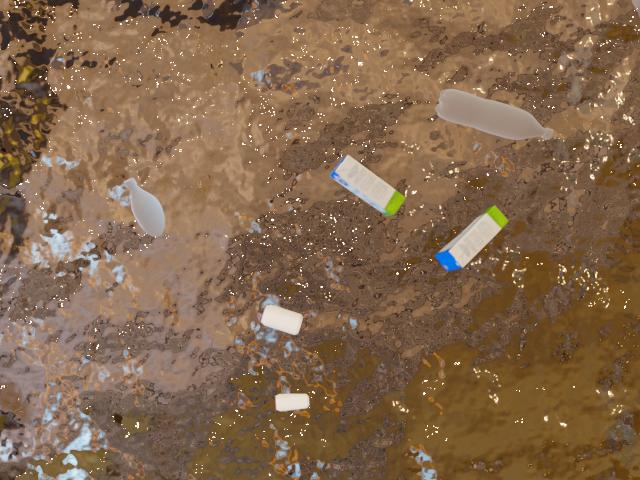Metal: (249, 291, 313, 346), (267, 379, 324, 424)
Plastic: (415, 86, 561, 151), (119, 173, 176, 249)
Trash: (431, 193, 518, 291), (320, 153, 411, 225)
